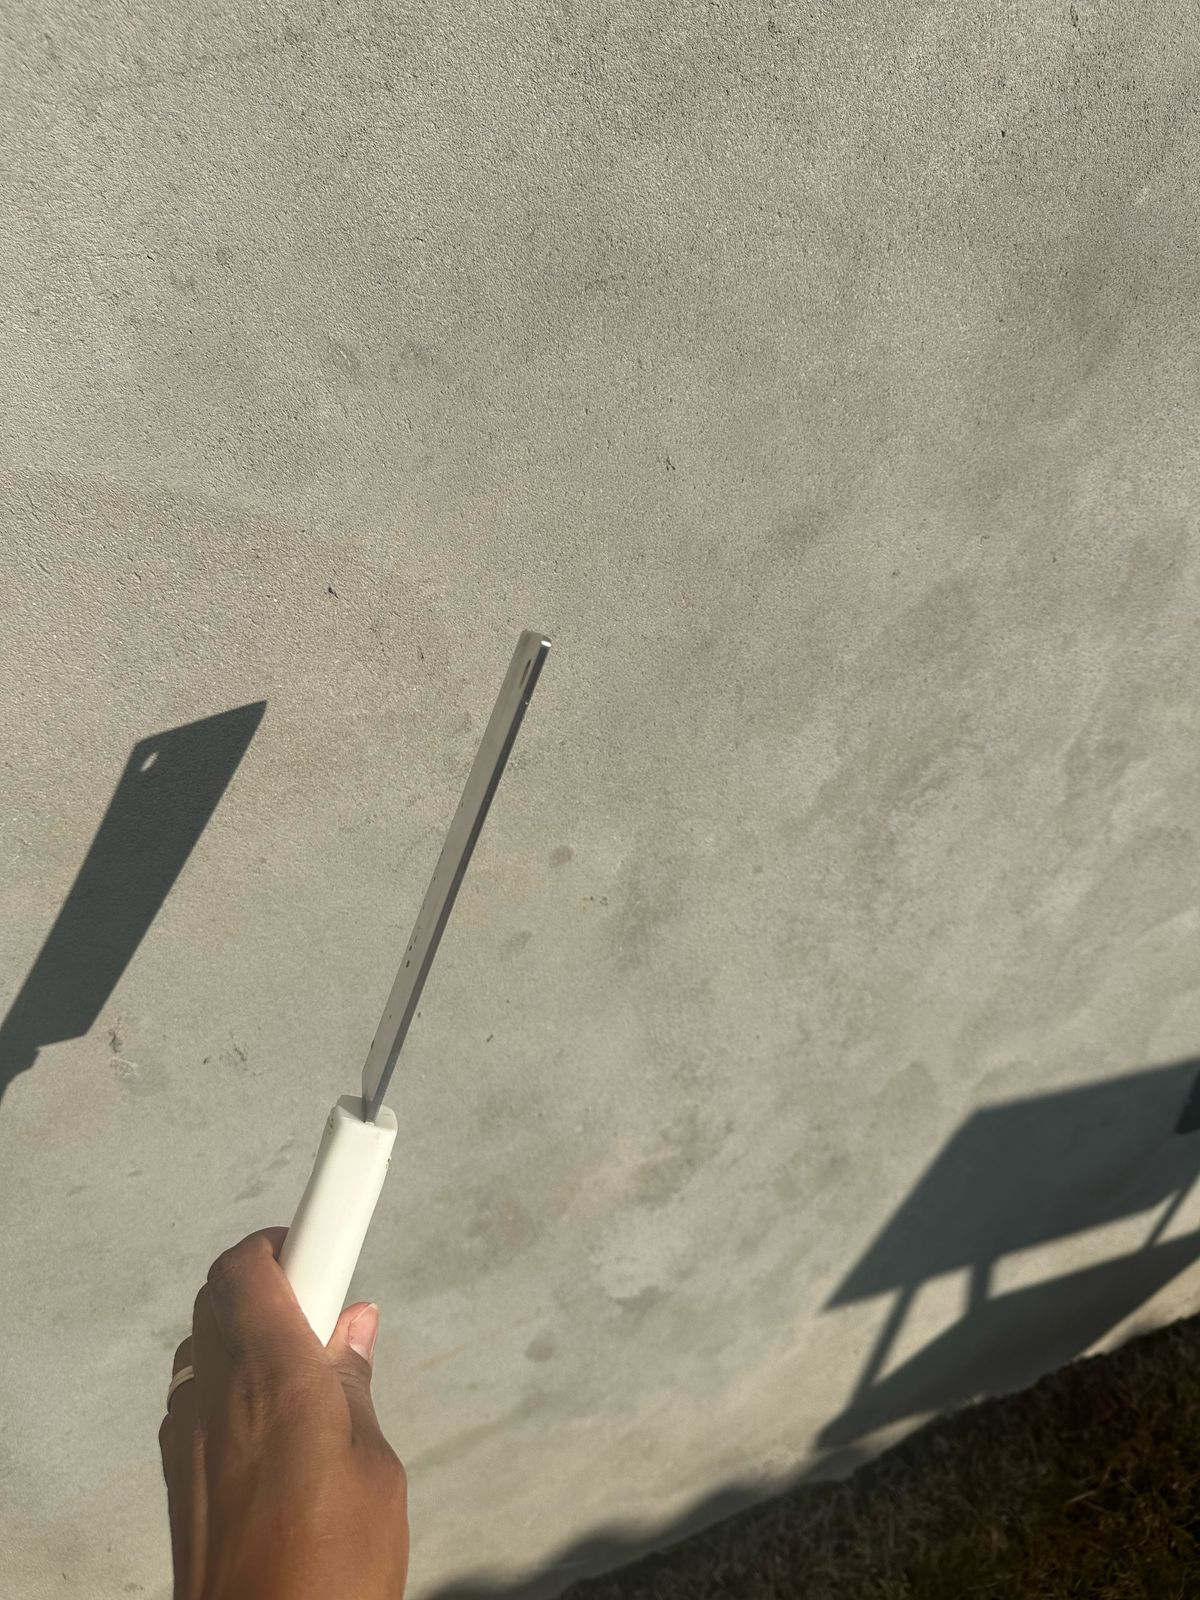faca: (294, 611, 563, 1228)
